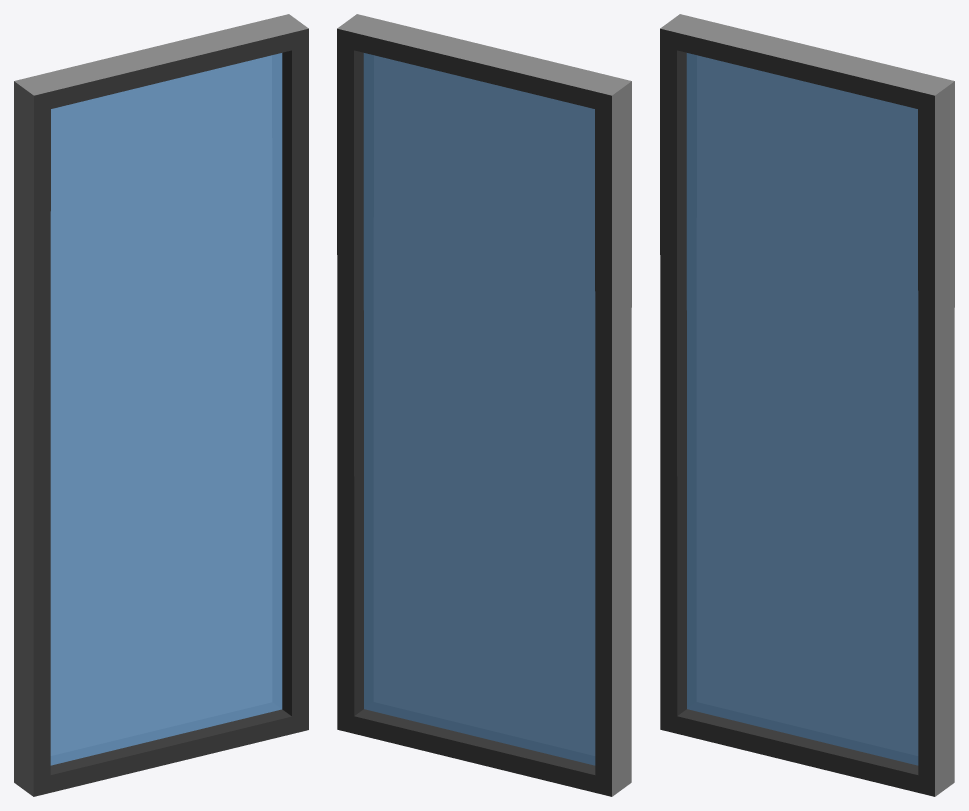
Rendered from Royal_Hall_Enterance_1_Door.FBX.
The picture shows the model from 3 angles, left to right: view 1: azimuth 30°, elevation 25°; view 2: azimuth 150°, elevation 25°; view 3: azimuth 330°, elevation 25°; orthographic projection.
Visible parts, largest first — view 1: Royal_Hall_Enterance_1_Door; view 2: Royal_Hall_Enterance_1_Door; view 3: Royal_Hall_Enterance_1_Door.
Boxes of the visible parts, <box> form: Royal_Hall_Enterance_1_Door: <box>14,14,308,796</box>; Royal_Hall_Enterance_1_Door: <box>337,14,631,796</box>; Royal_Hall_Enterance_1_Door: <box>660,14,954,796</box>.
Size of the model in its own units: 1.63 by 3.98 by 0.2055.
